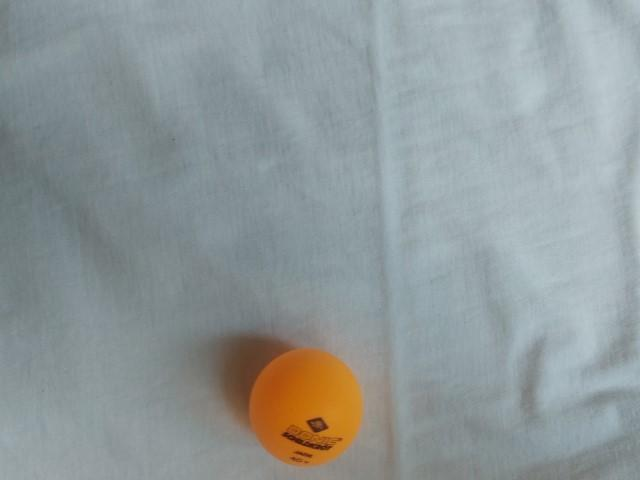oball: (240, 343, 374, 472)
